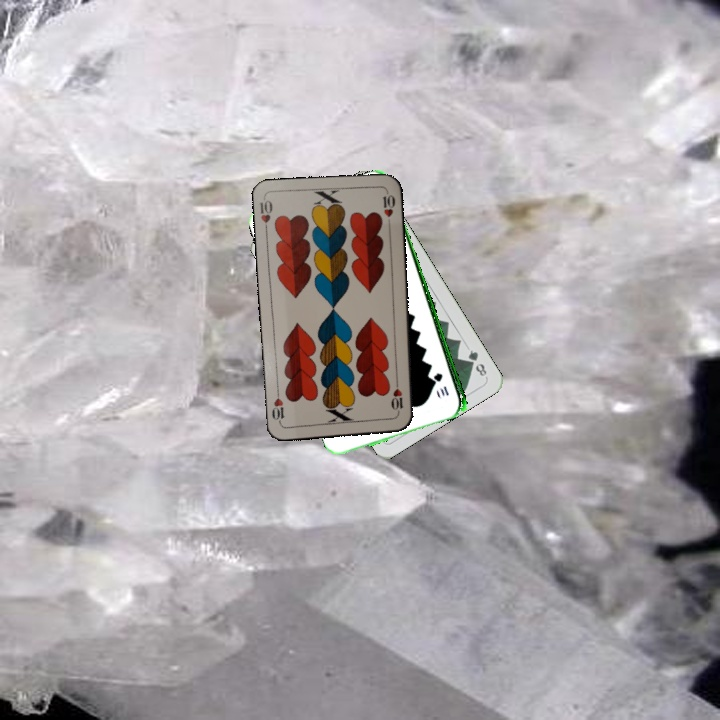G10: (432, 369, 451, 398)
G8: (464, 346, 489, 379)
H10: (256, 195, 275, 236), (389, 376, 405, 417)
